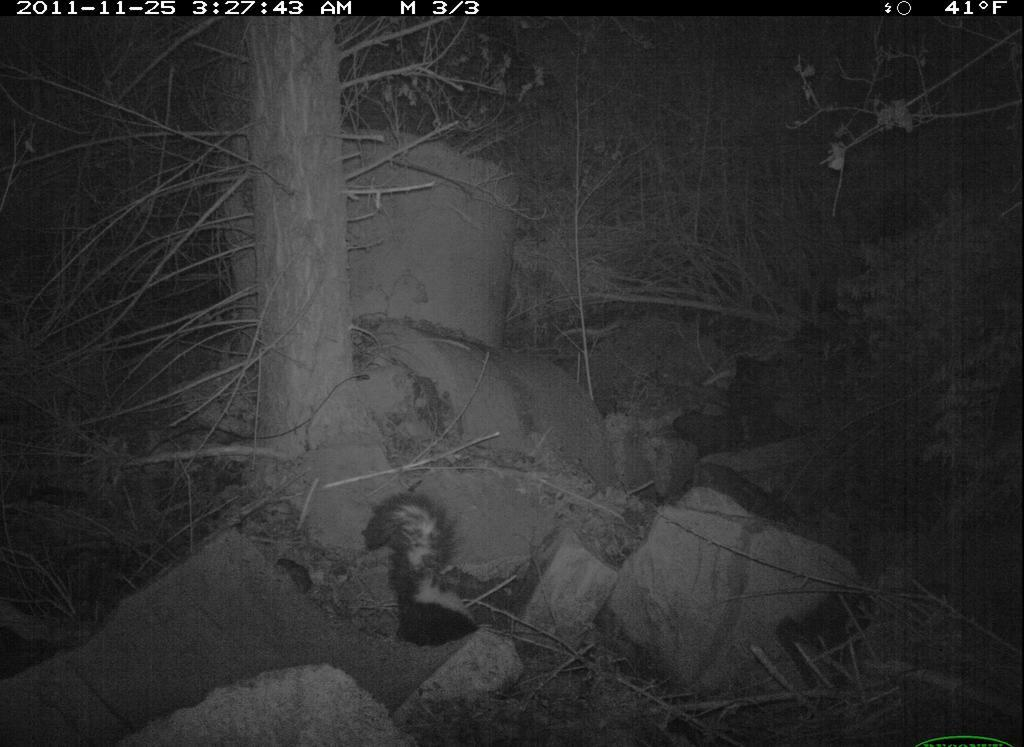skunk: (361, 489, 524, 648)
